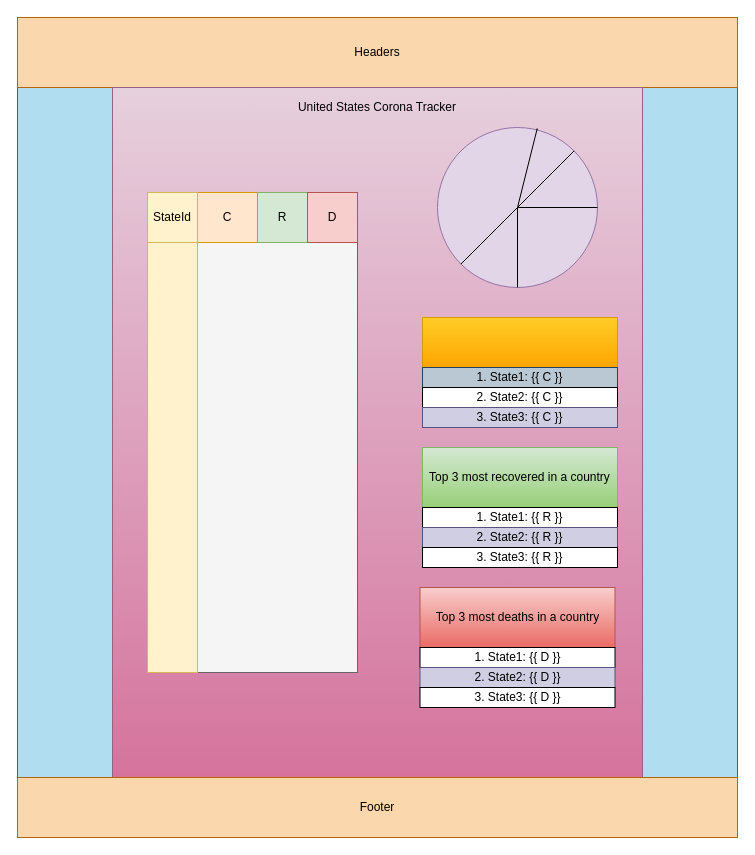
Image size: 755x855. Some labels were removed from this diagram. Each missing label, with the centre of its shape:
State's Cases in the U.S.: the point at 277,457
Top 3 most cases in a country: the point at 520,342
